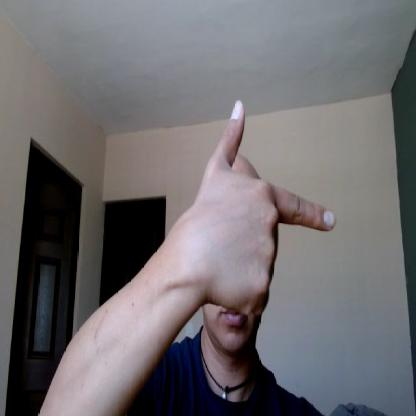G: (195, 99, 336, 319)
